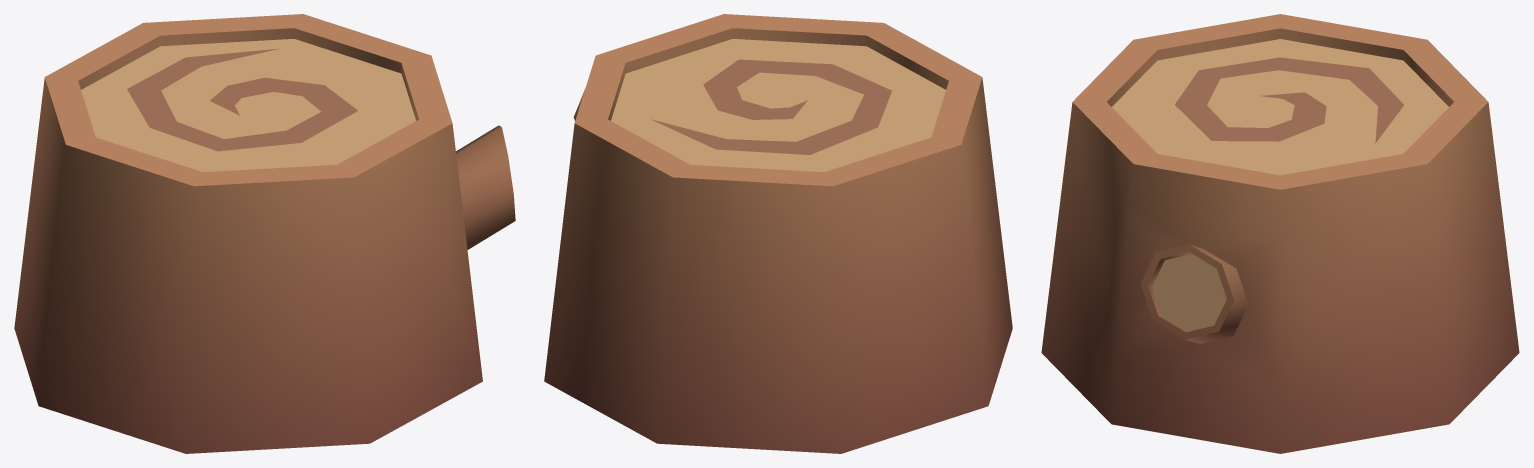
Rendered from Stump1.fbx.
3 renders of one model, left to right at view 1: azimuth 30°, elevation 25°; view 2: azimuth 150°, elevation 25°; view 3: azimuth 270°, elevation 25°, orthographic.
Visible parts, largest first — view 1: Cylinder.021; view 2: Cylinder.021; view 3: Cylinder.021.
Part boxes in pixels (left/top/right/bottom): Cylinder.021: left=14, top=14, right=515, bottom=453; Cylinder.021: left=544, top=14, right=1012, bottom=453; Cylinder.021: left=1041, top=14, right=1519, bottom=453.
Bounding box in the file's own units: 104 × 57.94 × 100.
